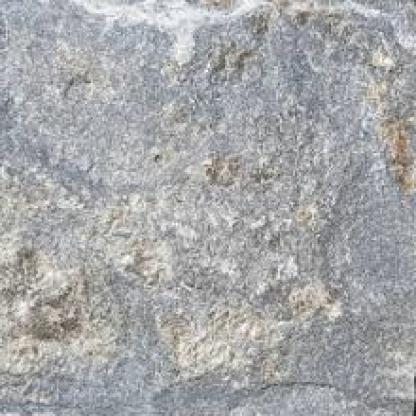Metamorphic_Quartize: (2, 2, 410, 414)
